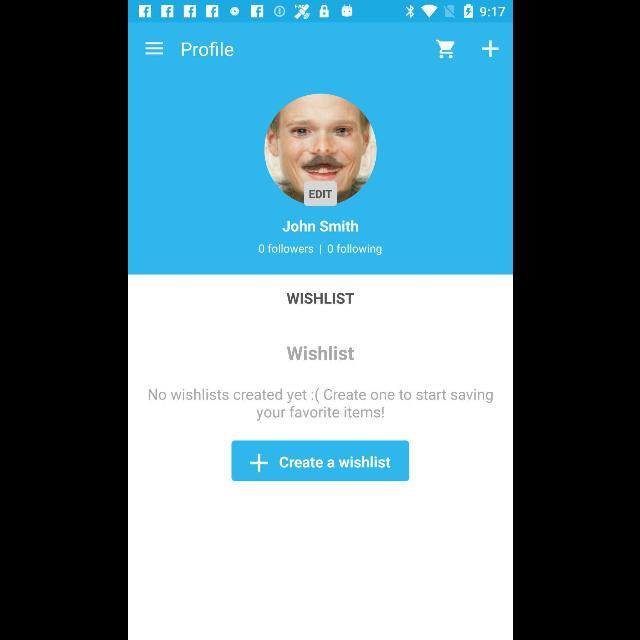icon: (434, 39, 454, 59), (144, 42, 164, 56), (482, 41, 498, 58)
image: (262, 95, 376, 207)
text: (148, 388, 492, 422), (258, 244, 380, 256), (286, 346, 354, 360), (281, 220, 357, 232), (180, 41, 233, 57), (286, 292, 354, 304)
textbutton: (230, 441, 408, 482)
uppertaskbar: (128, 1, 512, 23)
